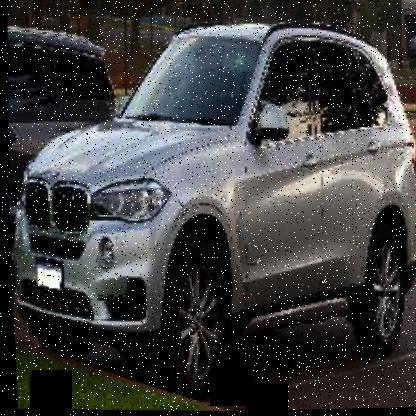not_emergency: (0, 3, 415, 416)
